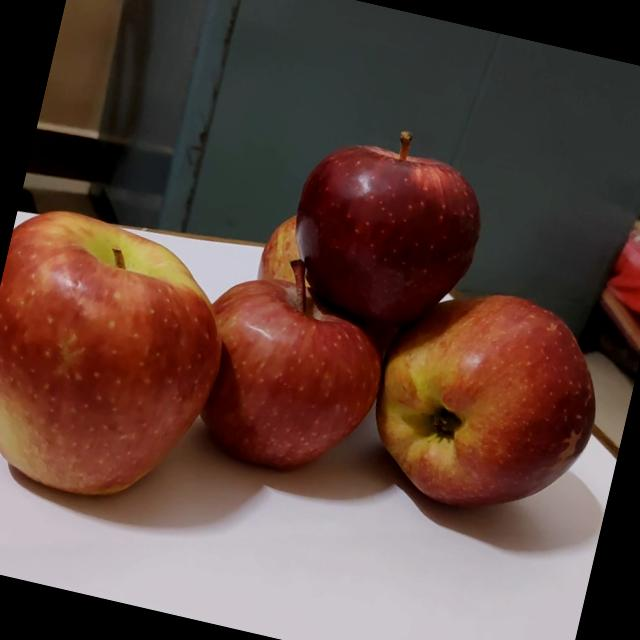apple: (0, 187, 248, 523), (356, 265, 626, 536), (176, 232, 406, 498), (274, 98, 506, 336), (257, 197, 329, 291)
